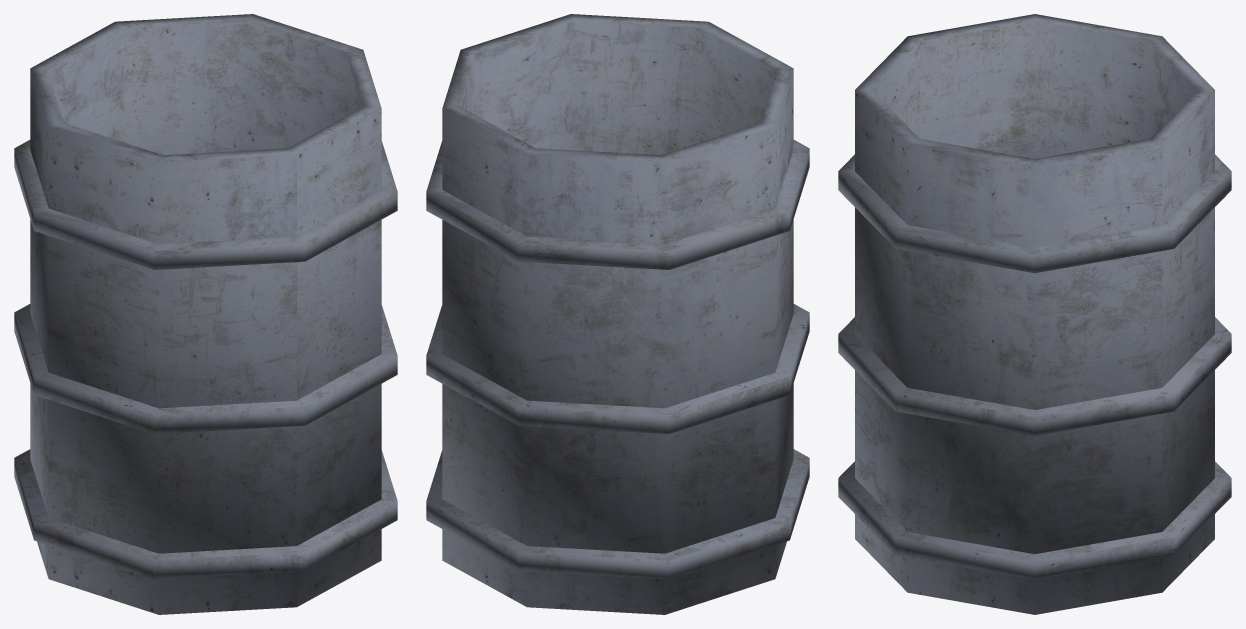
Rendered from CilindroMetalico.fbx.
The picture shows the model from 3 angles, left to right: view 1: azimuth 30°, elevation 25°; view 2: azimuth 150°, elevation 25°; view 3: azimuth 270°, elevation 25°; orthographic projection.
Parts seen in each view (by area): view 1: CilindroMetalico; view 2: CilindroMetalico; view 3: CilindroMetalico.
Part boxes in pixels (x1,y1,x2,y2): CilindroMetalico: (14,14,397,614); CilindroMetalico: (426,14,809,614); CilindroMetalico: (838,14,1231,614).
Bounding box in the file's own units: 124 × 124 × 156.
